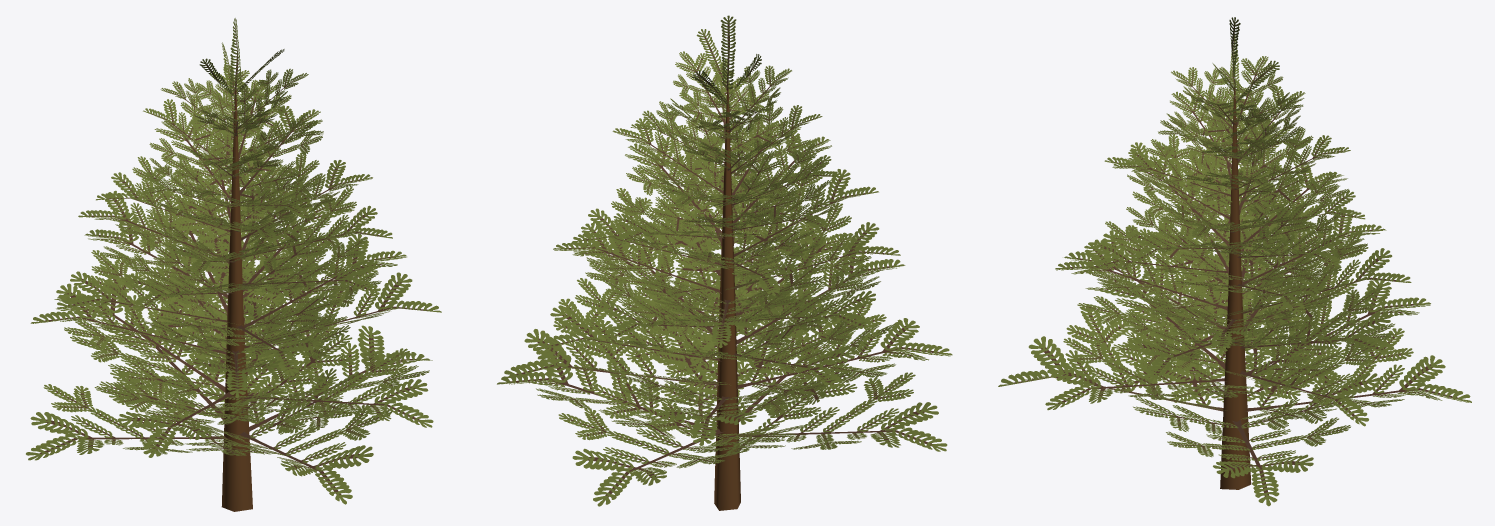
File: Fir_Tree_2.fbx
3 renders of one model, left to right at view 1: azimuth 30°, elevation 25°; view 2: azimuth 150°, elevation 25°; view 3: azimuth 270°, elevation 25°, orthographic. The views are drawn at different scales.
Parts seen in each view (by area): view 1: Fir_Tree_2; view 2: Fir_Tree_2; view 3: Fir_Tree_2.
Boxes of the visible parts, bbox=[...] form: Fir_Tree_2: bbox=[26, 18, 441, 511]; Fir_Tree_2: bbox=[497, 15, 952, 510]; Fir_Tree_2: bbox=[998, 17, 1471, 506].
Size of the model in its own units: 519 by 549 by 523.
Materials: 2 (2 with a texture image).
